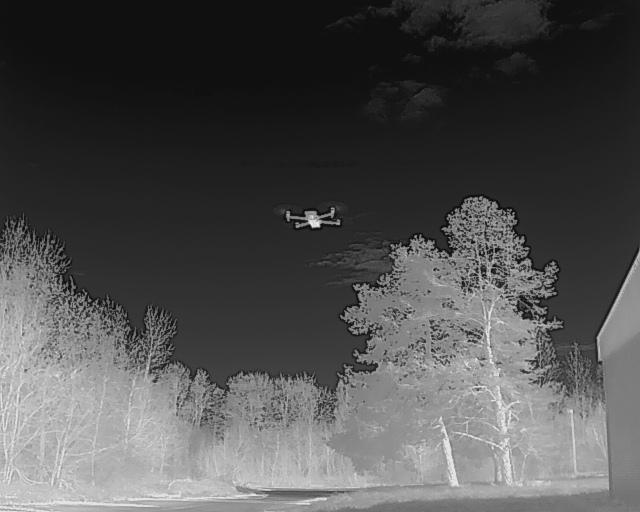drone: (271, 199, 361, 238)
